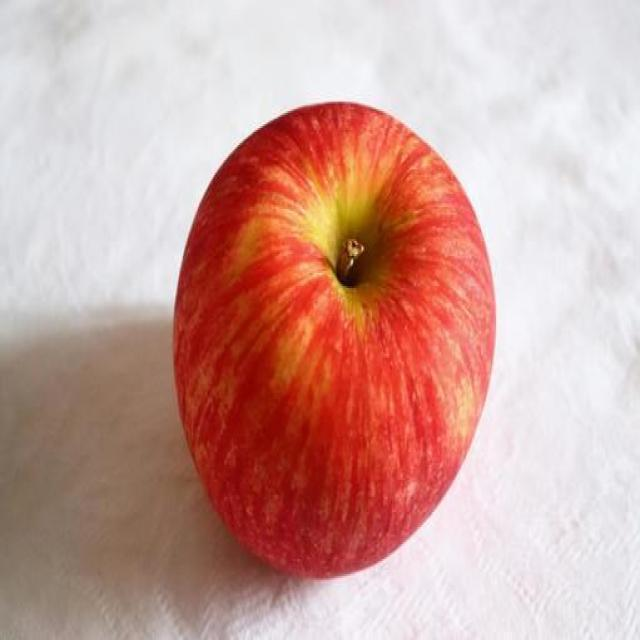apple: (171, 99, 497, 580)
